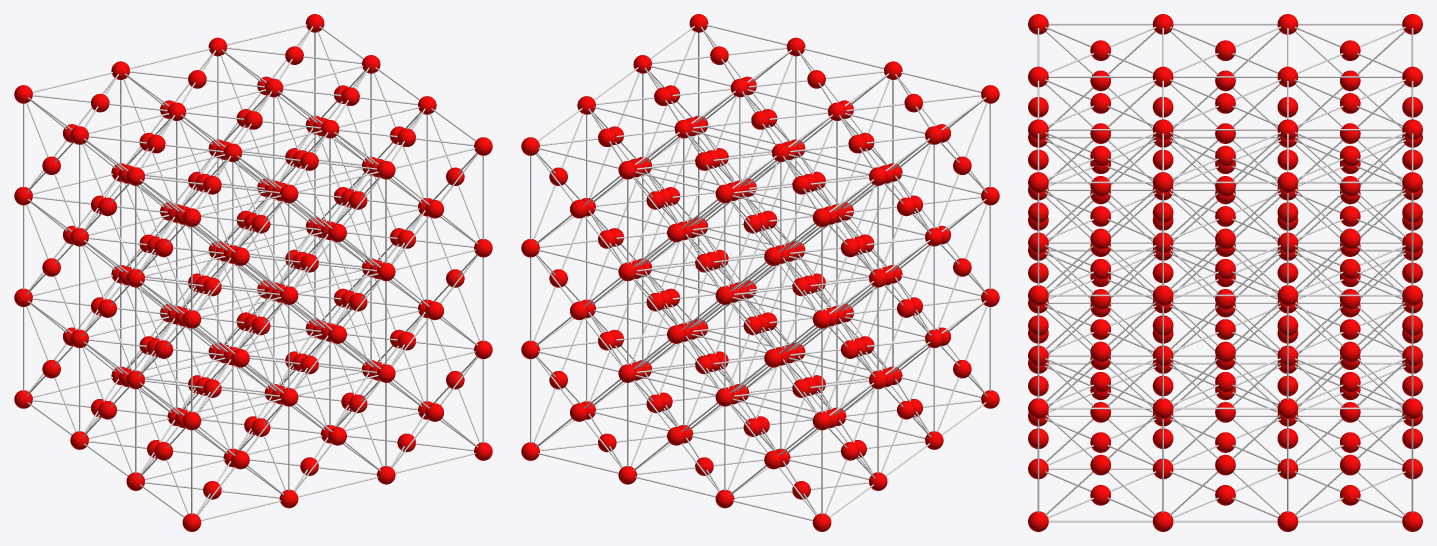
3 views of the same model, side by side, from view 1: azimuth 30°, elevation 25°; view 2: azimuth 150°, elevation 25°; view 3: azimuth 270°, elevation 25° (orthographic). The views are drawn at different scales.
Parts seen in each view (by area): view 1: world; view 2: world; view 3: world.
Part boxes in pixels (left/top/right/bottom): world: left=14, top=14, right=492, bottom=531; world: left=521, top=14, right=999, bottom=531; world: left=1028, top=14, right=1422, bottom=531.
Size of the model in its own units: 14.25 by 14.25 by 14.25.
